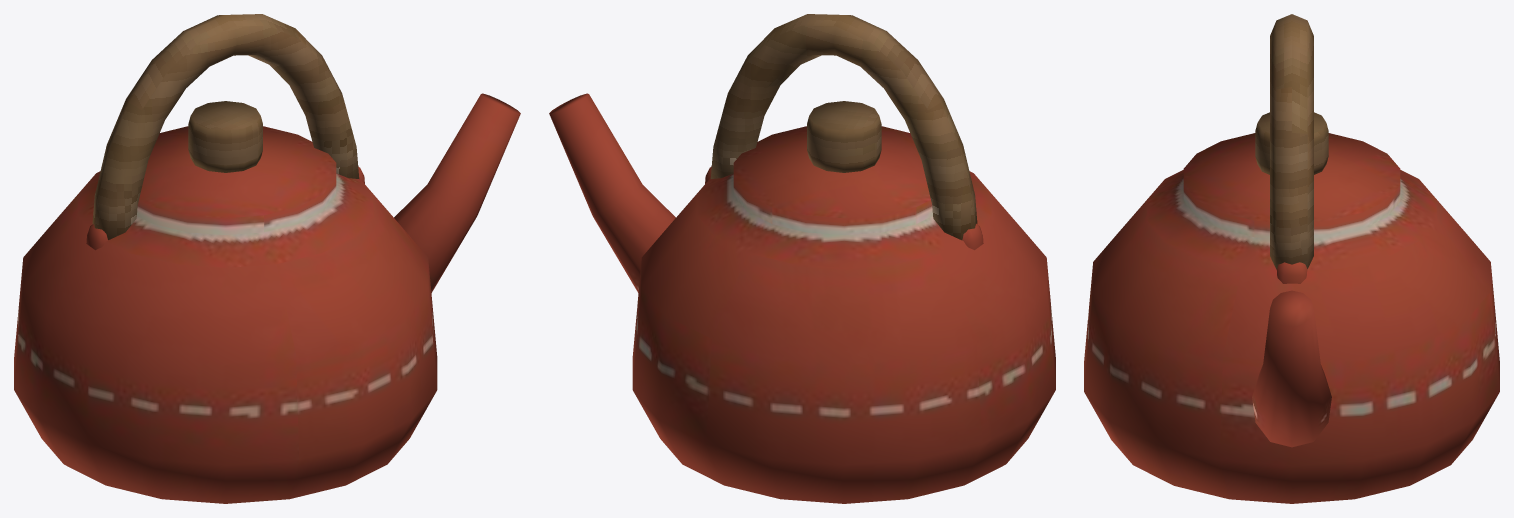
Rendered from kettle_red.glb.
3 views of the same model, side by side, from view 1: azimuth 30°, elevation 25°; view 2: azimuth 150°, elevation 25°; view 3: azimuth 270°, elevation 25° (orthographic).
Visible parts, largest first — view 1: prop_kettle_red_felt, prop_kettle_red_wood; view 2: prop_kettle_red_felt, prop_kettle_red_wood; view 3: prop_kettle_red_felt, prop_kettle_red_wood.
Part boxes in pixels (box(x1,y1,x2,y2)): prop_kettle_red_felt: box(14, 93, 520, 503); prop_kettle_red_wood: box(92, 14, 359, 239); prop_kettle_red_felt: box(549, 93, 1055, 503); prop_kettle_red_wood: box(710, 14, 977, 240); prop_kettle_red_felt: box(1084, 133, 1499, 503); prop_kettle_red_wood: box(1255, 14, 1328, 269).
Size of the model in its own units: 0.5906 by 0.484 by 0.453.
2 materials, 2 textured.
